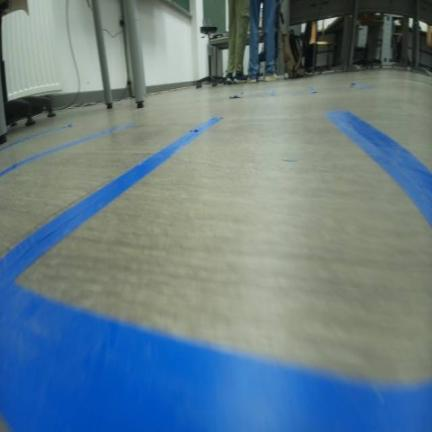place: (0, 109, 431, 431), (0, 117, 224, 289), (0, 118, 139, 177)
